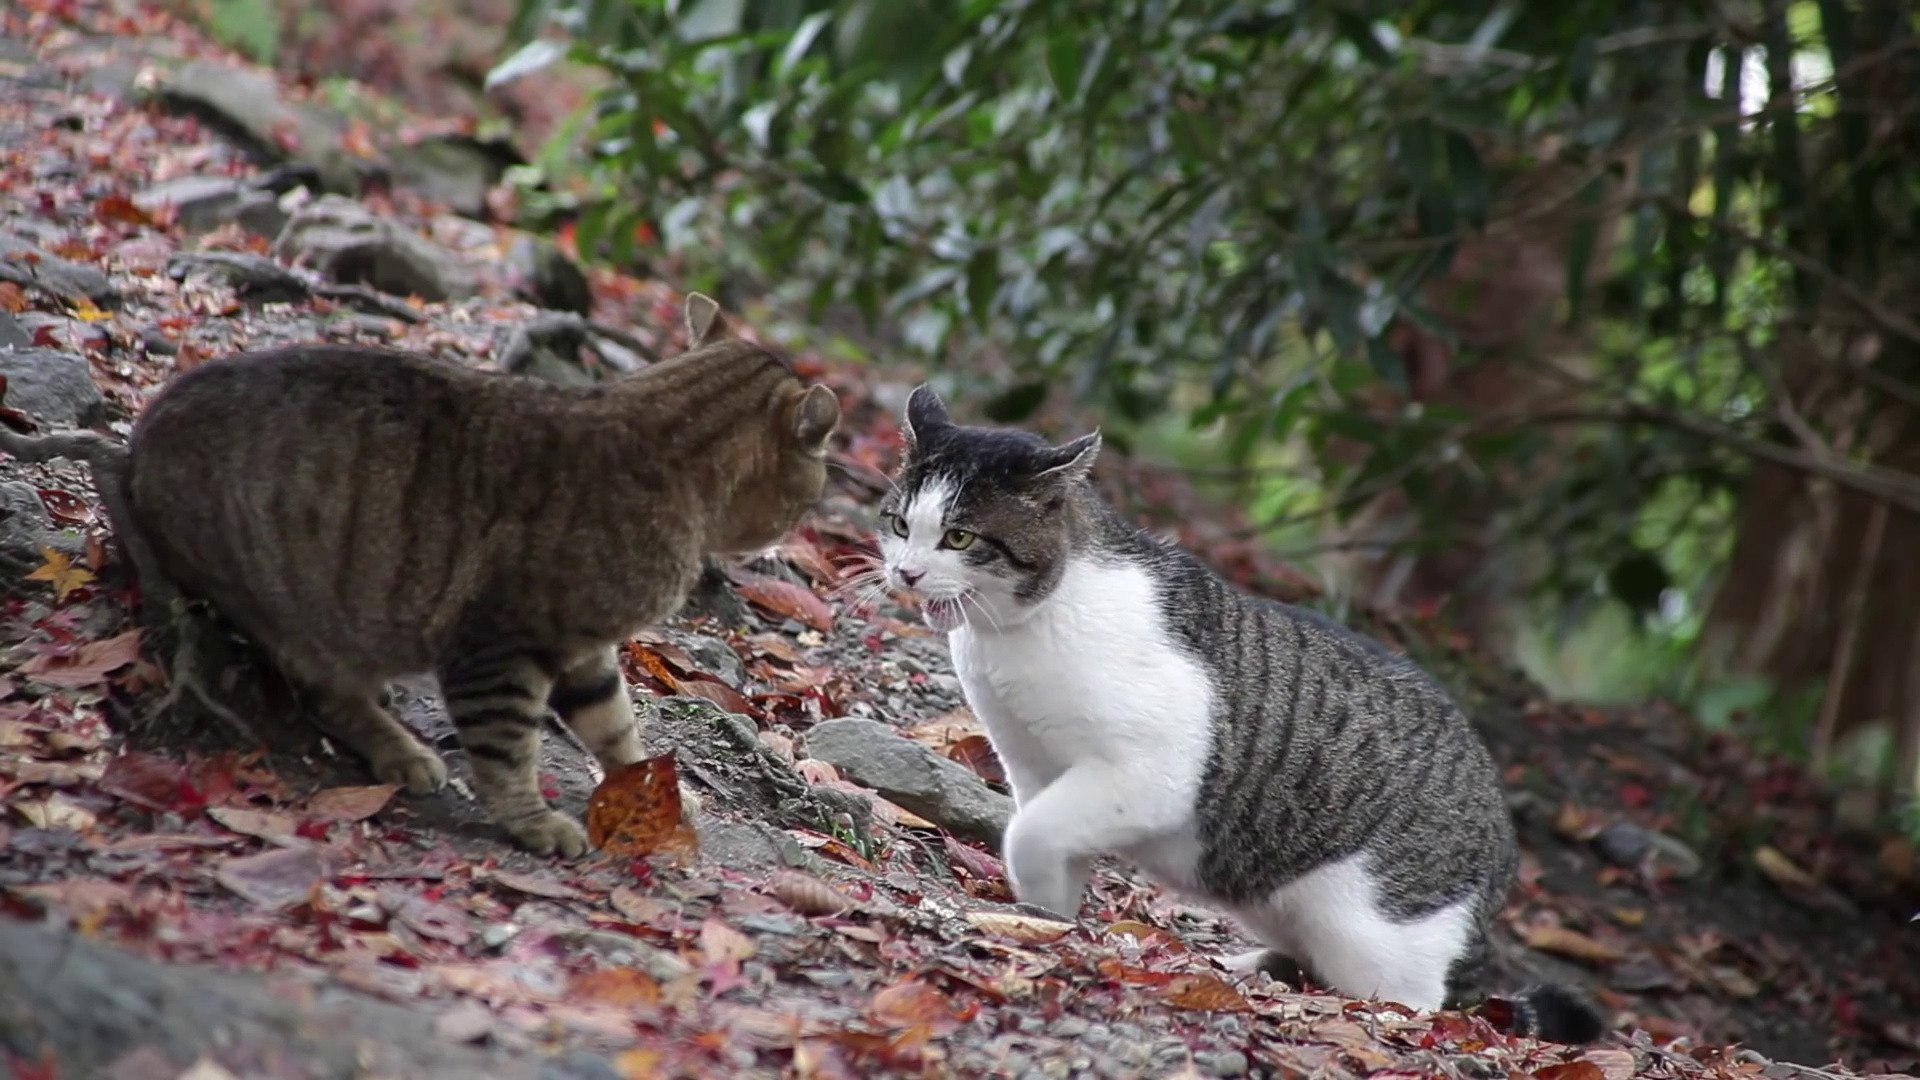black-white: (880, 384, 1534, 1014)
pure black: (127, 291, 839, 858)
